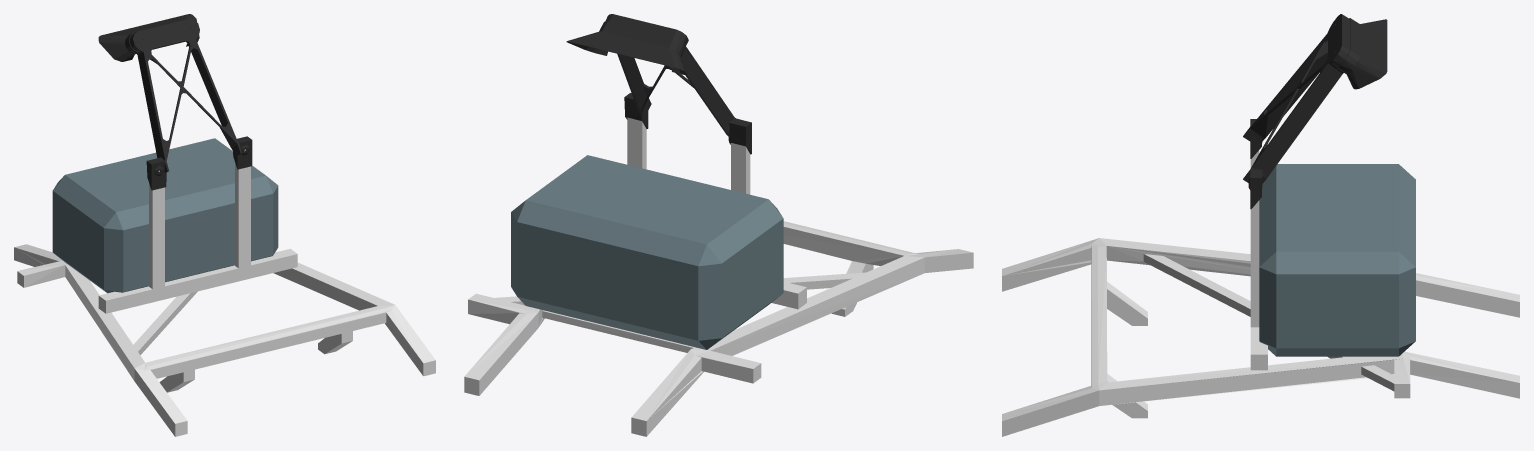
File: stick.dae
3 views of the same model, side by side, from view 1: azimuth 30°, elevation 25°; view 2: azimuth 150°, elevation 25°; view 3: azimuth 270°, elevation 25° (orthographic). The views are drawn at different scales.
Parts seen in each view (by area): view 1: stickBox, stick, stickCamera; view 2: stickBox, stick, stickCamera; view 3: stickBox, stick, stickCamera.
Boxes of the visible parts, box(x1,y1,x2,y2) form: stickBox: box(52, 138, 278, 293); stick: box(14, 149, 435, 436); stickCamera: box(98, 14, 252, 190); stickBox: box(511, 155, 783, 349); stick: box(464, 117, 973, 436); stickCamera: box(566, 14, 751, 154); stickBox: box(1259, 164, 1415, 356); stick: box(1002, 150, 1519, 436); stickCamera: box(1243, 14, 1387, 209).
Size of the model in its own units: 0.53 by 0.7604 by 0.5497.
